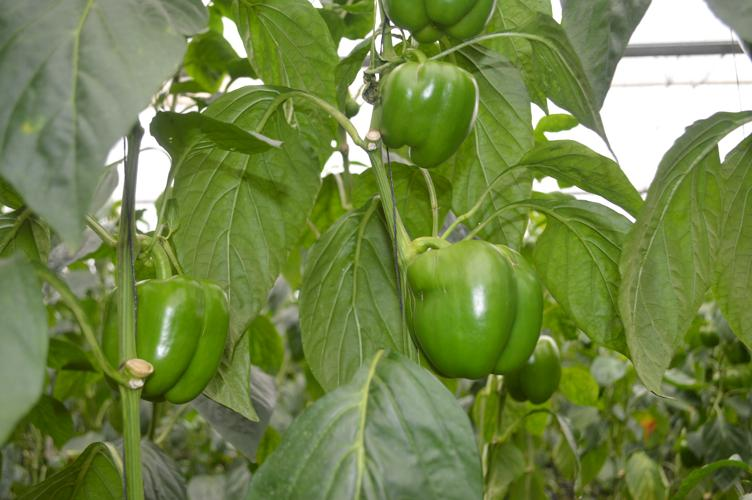BellPepper: (394, 235, 535, 380), (92, 269, 232, 403), (372, 48, 482, 178), (503, 332, 565, 410)
